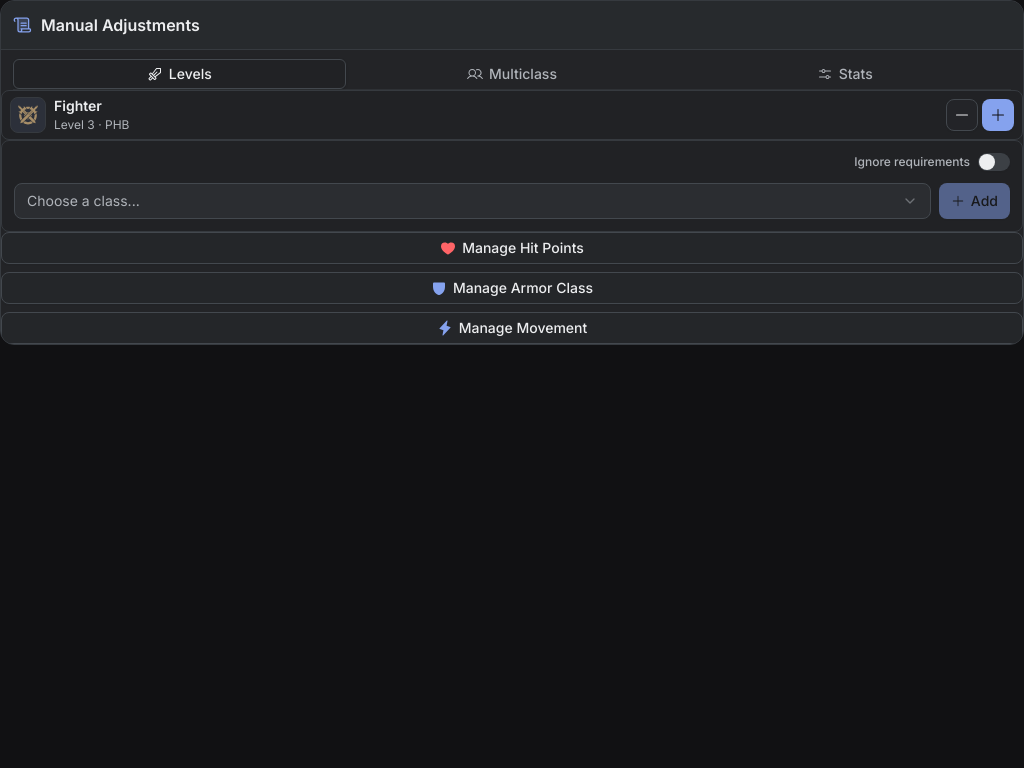
Test: Manual Adjustments level changes › remembers skipping removal confirmation only after confirming
Later steps or results of the test are not shown.
Click the button named "Remove a level from Fighter" at (962, 115), box [946, 99, 978, 131]
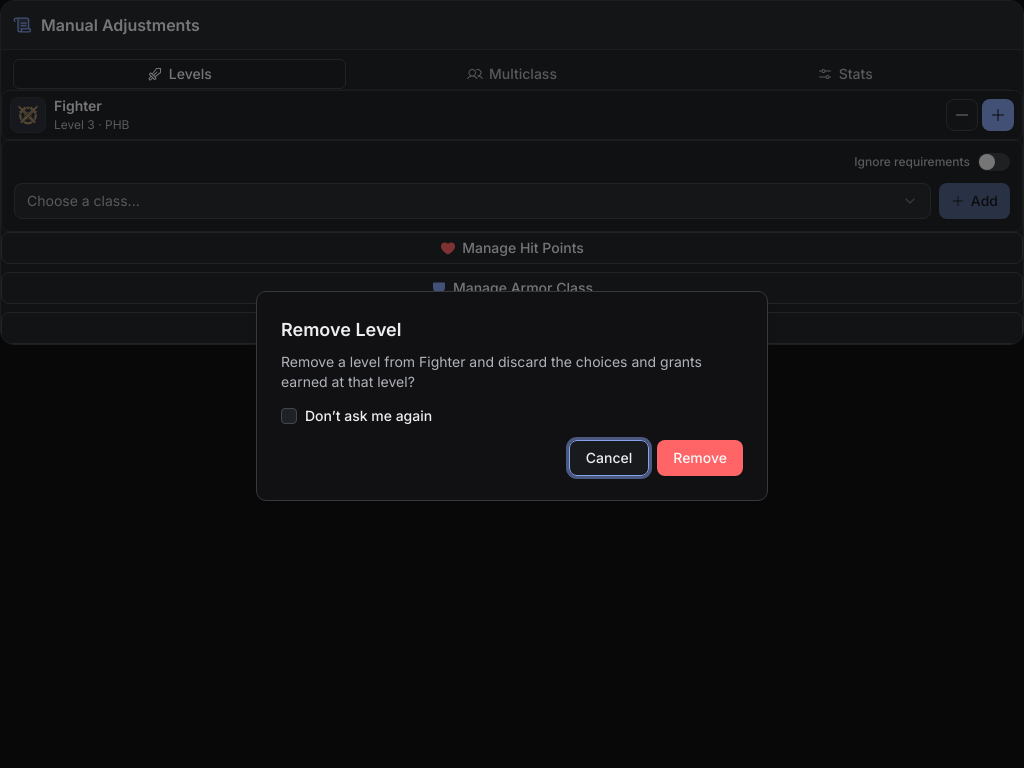
Click the checkbox named "Don’t ask me again" at (289, 416), box [281, 408, 297, 424]
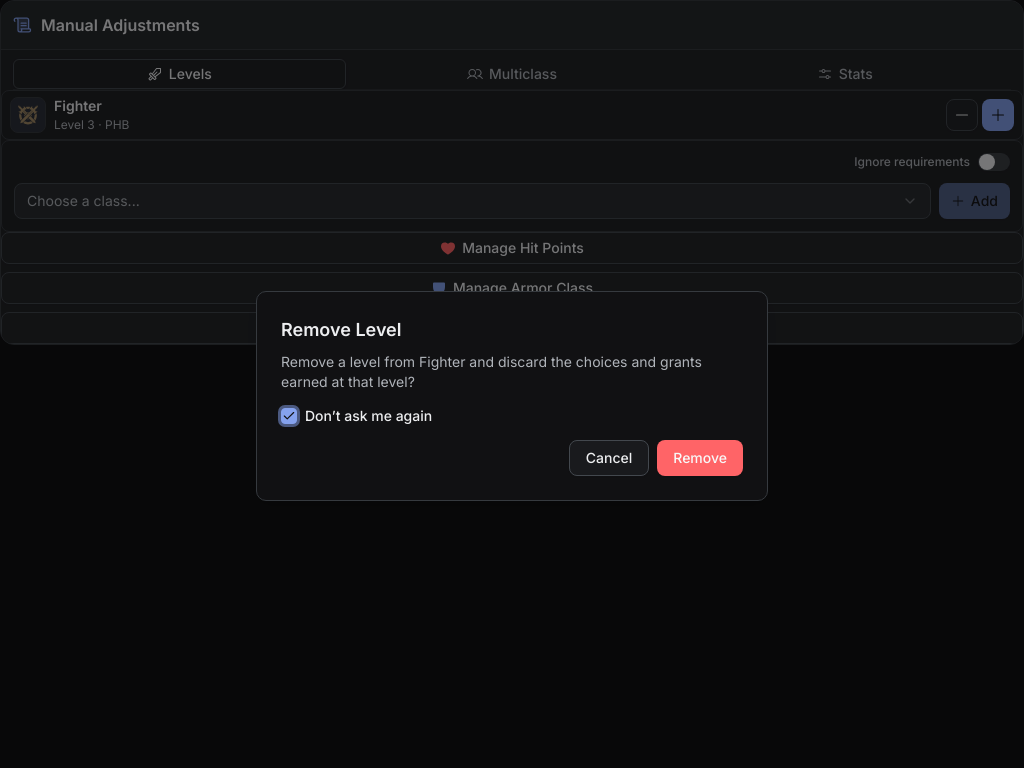
Click the button "Cancel" at (609, 458), box [569, 440, 649, 476]
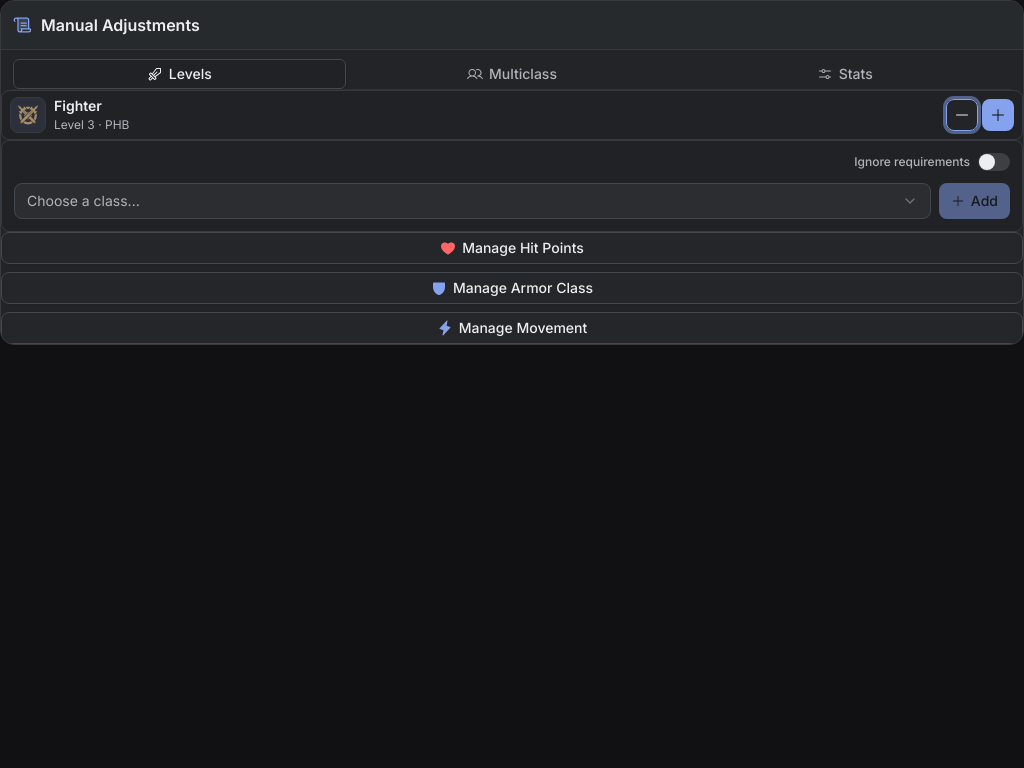
Click the button named "Remove a level from Fighter" at (962, 115), box [946, 99, 978, 131]
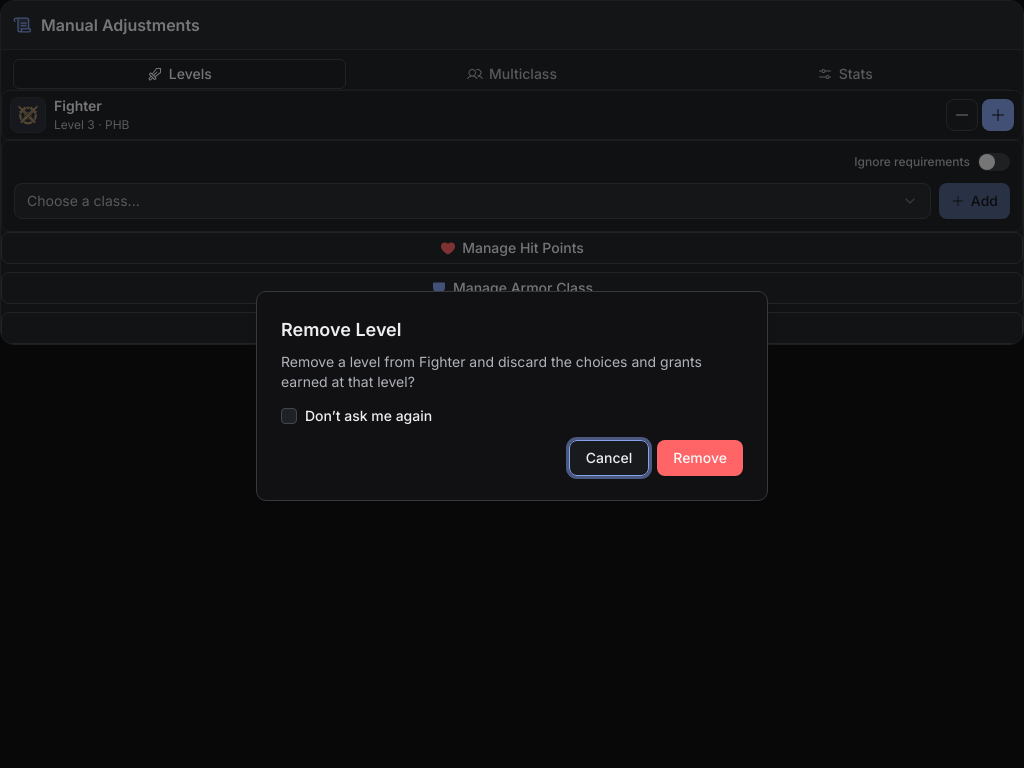
Expected: the checkbox named "Don’t ask me again" is not checked, [281, 408, 297, 424]
